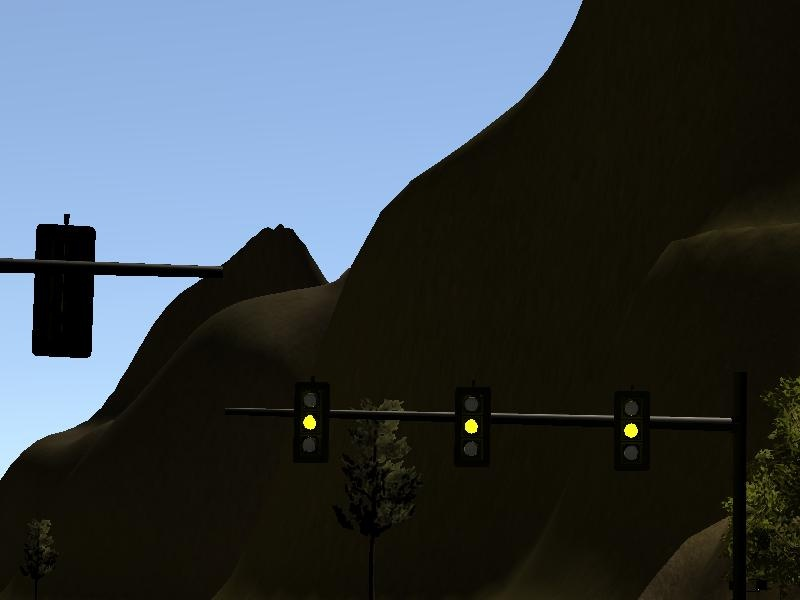yellow: (454, 388, 491, 472), (614, 392, 651, 475), (293, 384, 329, 465)
